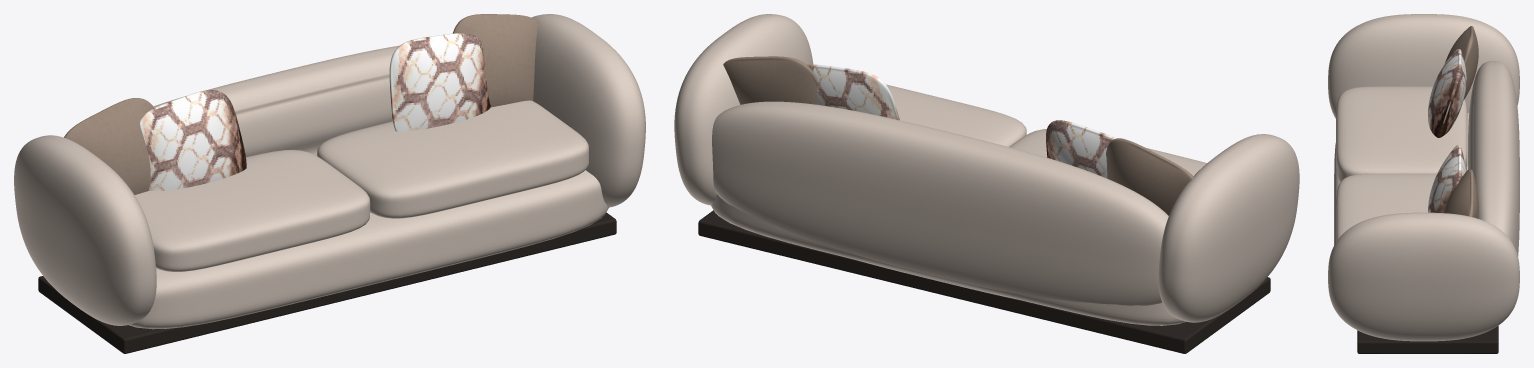
File: glory-sofa-set--sofa3.glb
The picture shows the model from 3 angles, left to right: view 1: azimuth 30°, elevation 25°; view 2: azimuth 150°, elevation 25°; view 3: azimuth 270°, elevation 25°; orthographic projection. The views are drawn at different scales.
Visible parts, largest first — view 1: body, seat1, arm-1, seat0, arm1, back, pb1, pb-1, plinth, pa1, pa-1; view 2: back, arm-1, plinth, arm1, body, seat1, pa1, pa-1, pb1, pb-1, seat0; view 3: arm1, arm-1, seat0, back, seat1, plinth, pb-1, pb1, pa1, pa-1, body.
Boxes of the visible parts, x1,y1,x2,y2 form: body: (129, 170, 608, 329); seat1: (317, 100, 588, 218); arm-1: (14, 135, 156, 325); seat0: (134, 149, 370, 271); arm1: (531, 14, 645, 207); back: (153, 45, 399, 156); pb1: (389, 33, 490, 131); pb-1: (140, 90, 246, 190); plinth: (38, 212, 616, 353); pa1: (453, 14, 539, 107); pa-1: (64, 98, 153, 194); back: (712, 101, 1168, 305); arm-1: (1158, 134, 1299, 322); plinth: (698, 210, 1270, 353); arm1: (674, 14, 813, 205); body: (711, 194, 1185, 325); seat1: (886, 84, 1026, 146); pa1: (723, 56, 818, 104); pa-1: (1106, 138, 1193, 215); pb1: (807, 64, 899, 120); pb-1: (1046, 120, 1116, 178); seat0: (1009, 129, 1206, 175); arm1: (1328, 212, 1519, 341); arm-1: (1328, 14, 1519, 118); seat0: (1336, 86, 1467, 181); back: (1468, 61, 1519, 256); seat1: (1336, 173, 1436, 241); plinth: (1357, 325, 1498, 353); pb-1: (1428, 49, 1466, 137); pb1: (1428, 145, 1465, 212); pa1: (1443, 169, 1478, 218); pa-1: (1445, 26, 1478, 99); body: (1334, 113, 1469, 245).
Size of the model in its own units: 2.58 by 0.8317 by 0.9499.
Materials: 4 (3 with a texture image).
